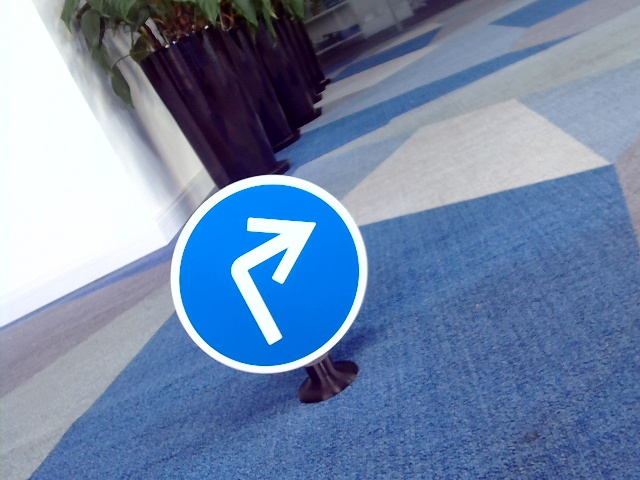turn_right: (223, 218, 319, 342)
